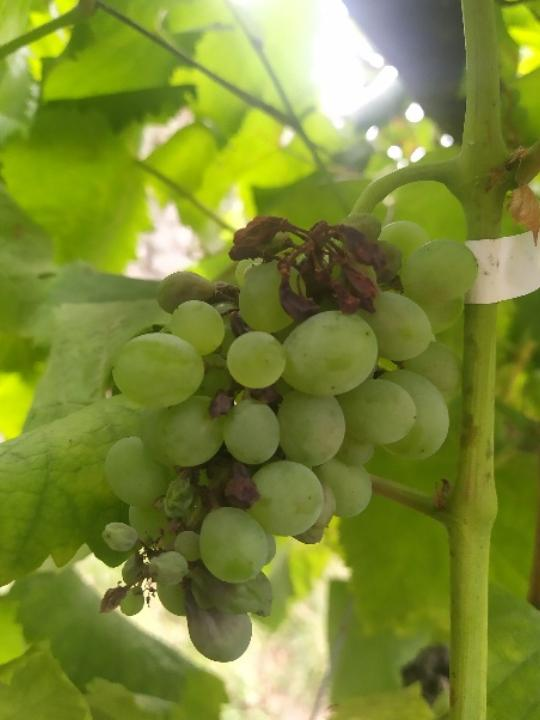grape: (95, 208, 483, 669)
